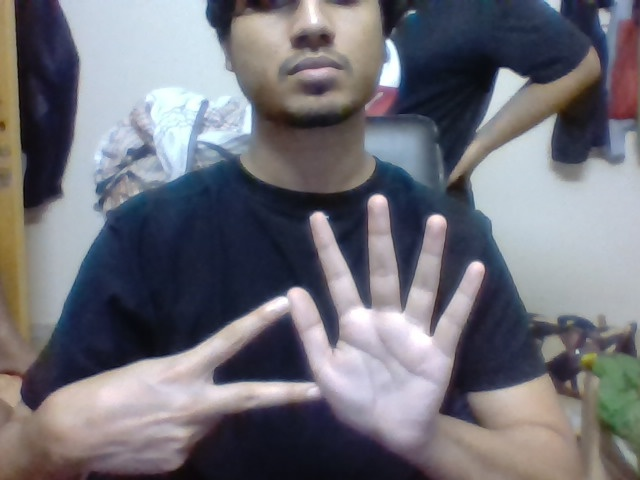N: (184, 291, 289, 423)
